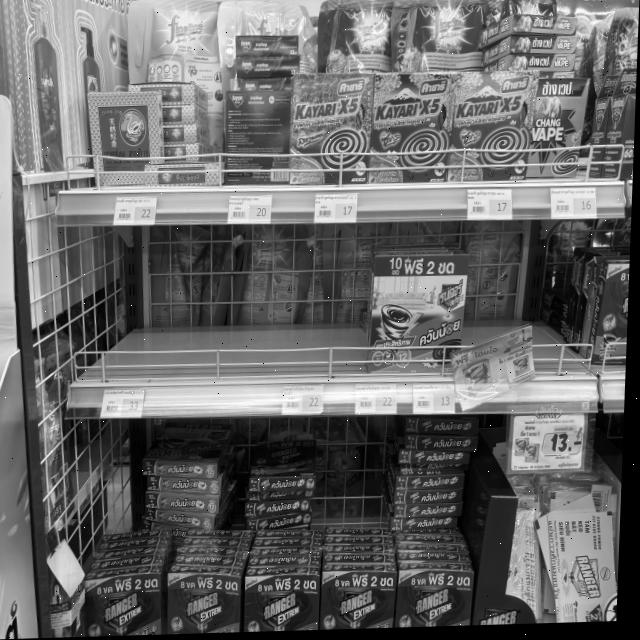empty_shelf: (73, 250, 373, 380), (462, 245, 591, 378)
